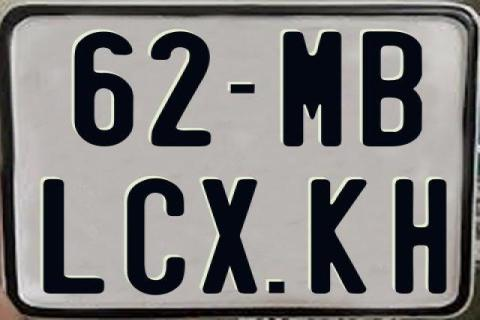0: (71, 31, 137, 148), (148, 30, 213, 146)
B: (363, 31, 428, 148)
C: (124, 178, 186, 298)
H: (396, 177, 452, 293)
K: (309, 177, 371, 293)
L: (41, 178, 104, 292)
M: (282, 29, 342, 149)
X: (200, 177, 259, 293)
